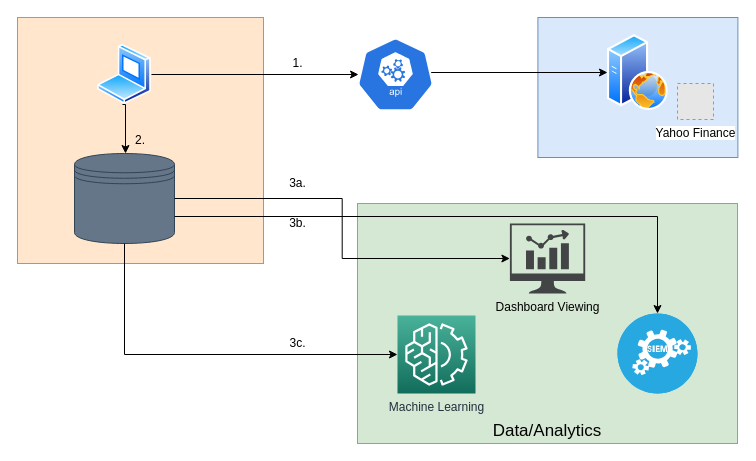
The diagram is 756 pixels wide and 461 high, and some of its shapes have lost their labels. Grey dashed boxes stand in for pictures. Each missing label, with the centre of its shape:
"Client Machine" goes at [124,74].
"Data Analytics" goes at [657,353].
"Portfolio Performance Data Store" goes at [124,198].
